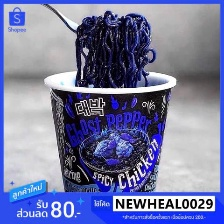paper_cup: (37, 64, 181, 192)
